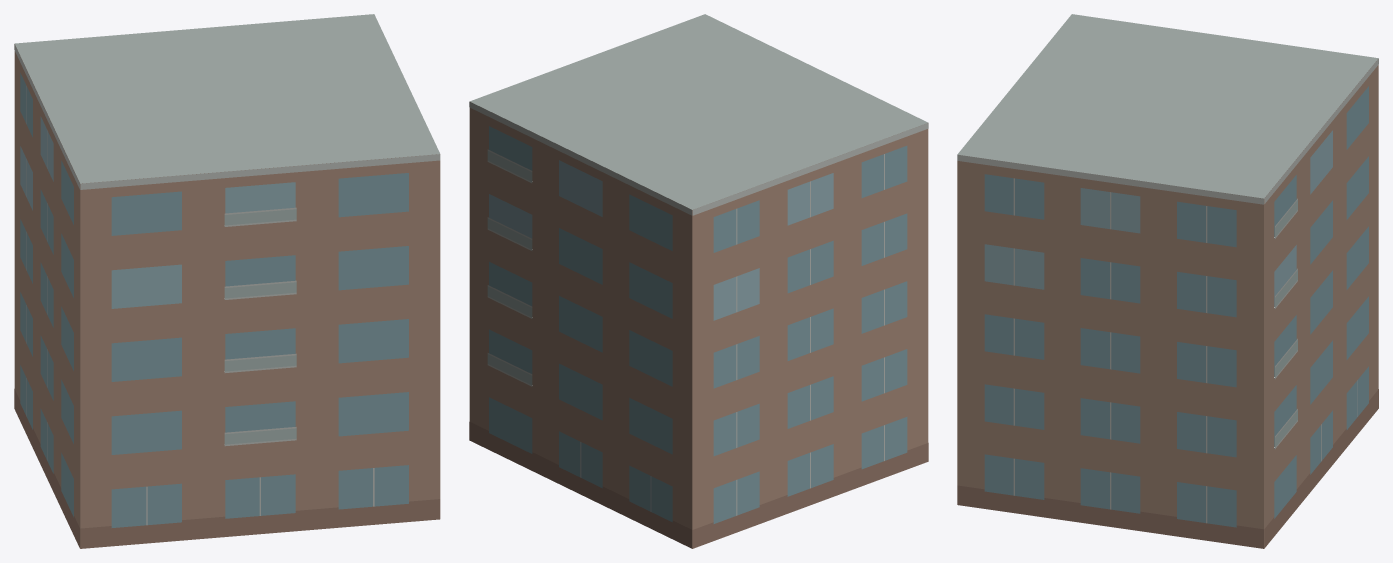
File: survey-upis-32869785.glb
The picture shows the model from 3 angles, left to right: view 1: azimuth 30°, elevation 25°; view 2: azimuth 150°, elevation 25°; view 3: azimuth 270°, elevation 25°; orthographic projection. The views are drawn at different scales.
Parts seen in each view (by area): view 1: survey-upis-32869785.tmp; view 2: survey-upis-32869785.tmp; view 3: survey-upis-32869785.tmp.
Boxes of the visible parts, x1=… form: survey-upis-32869785.tmp: x1=14, y1=14, x2=440, y2=548; survey-upis-32869785.tmp: x1=469, y1=14, x2=928, y2=548; survey-upis-32869785.tmp: x1=957, y1=14, x2=1378, y2=548.
Bounding box in the file's own units: 15.72 × 13.9 × 15.17.
